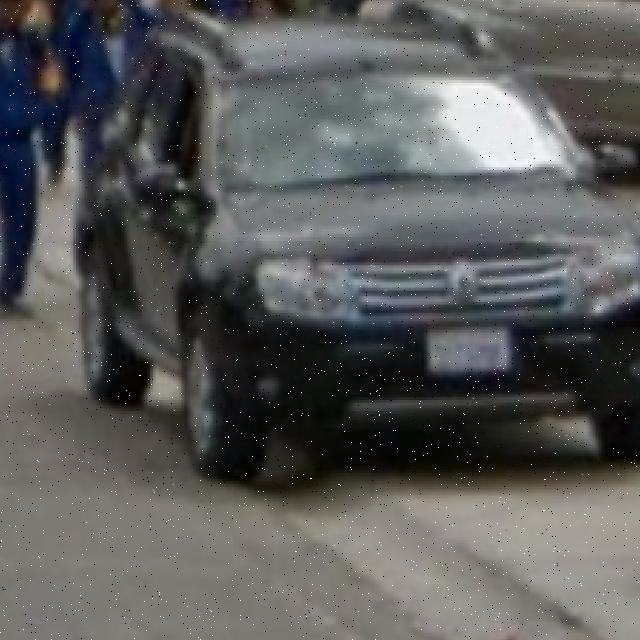car: (80, 28, 634, 494)
